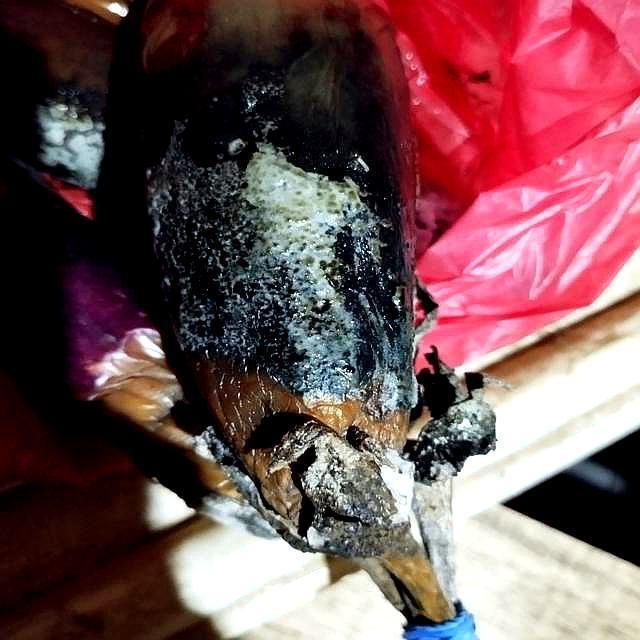Biodegradable: (127, 17, 431, 551)
